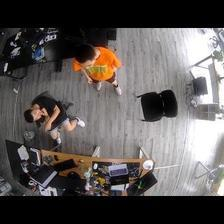normal: (22, 93, 84, 144), (69, 43, 123, 98)
